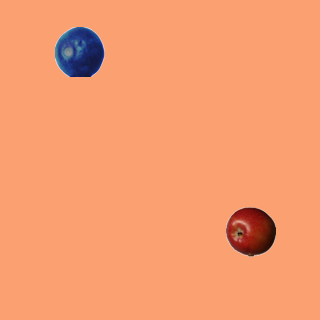Apple Braeburn: (225, 206, 275, 256)
Huckleberry: (54, 26, 104, 76)
